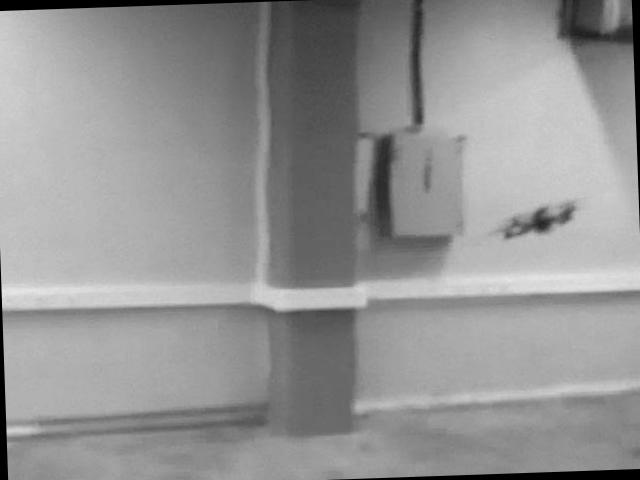drone: (497, 200, 579, 240)
